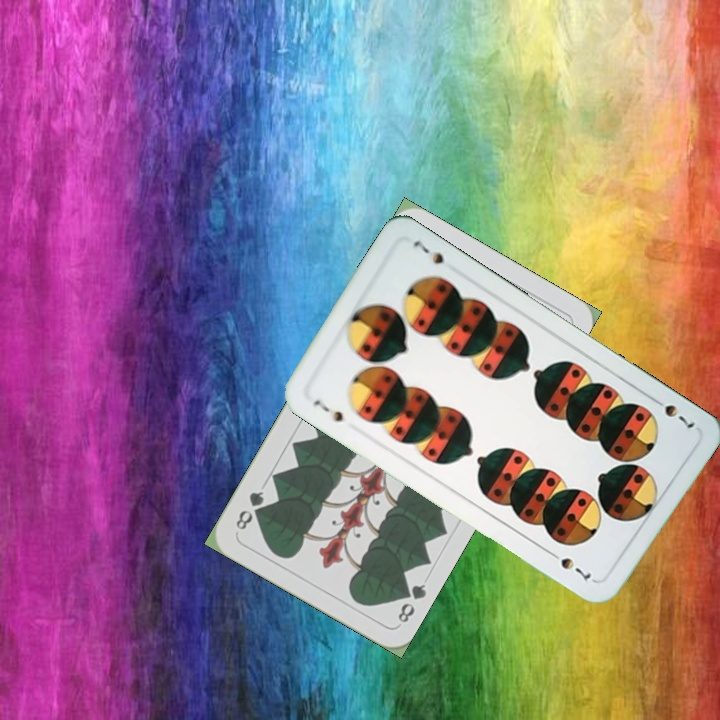G8: (393, 580, 429, 626)
S7: (647, 393, 698, 432), (309, 395, 346, 425)
